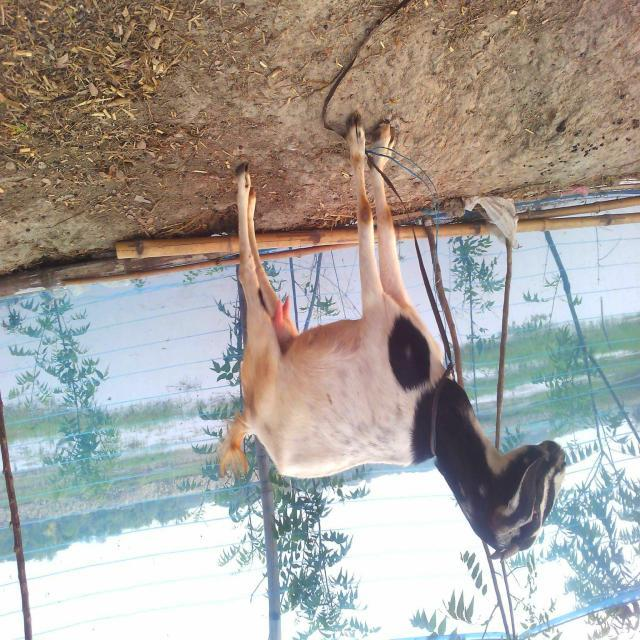Goat: (216, 113, 567, 564)
